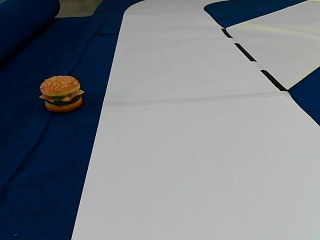burger: (38, 73, 83, 112)
